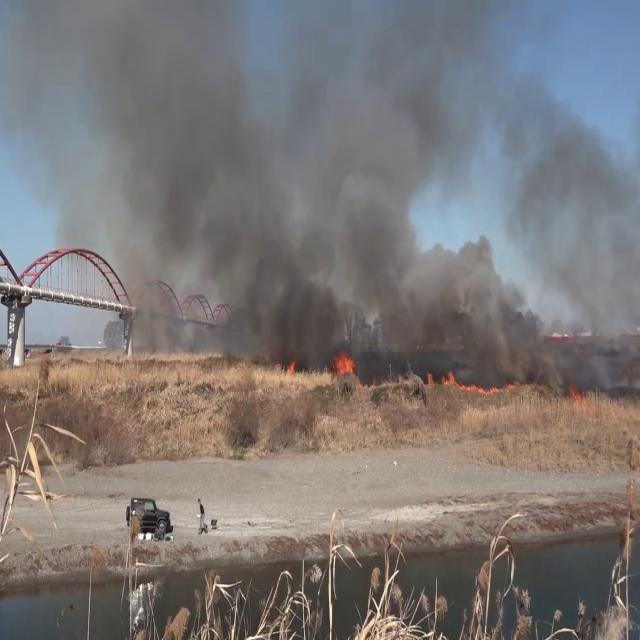Fire: (334, 342, 358, 380)
Smoke: (3, 0, 633, 380)
